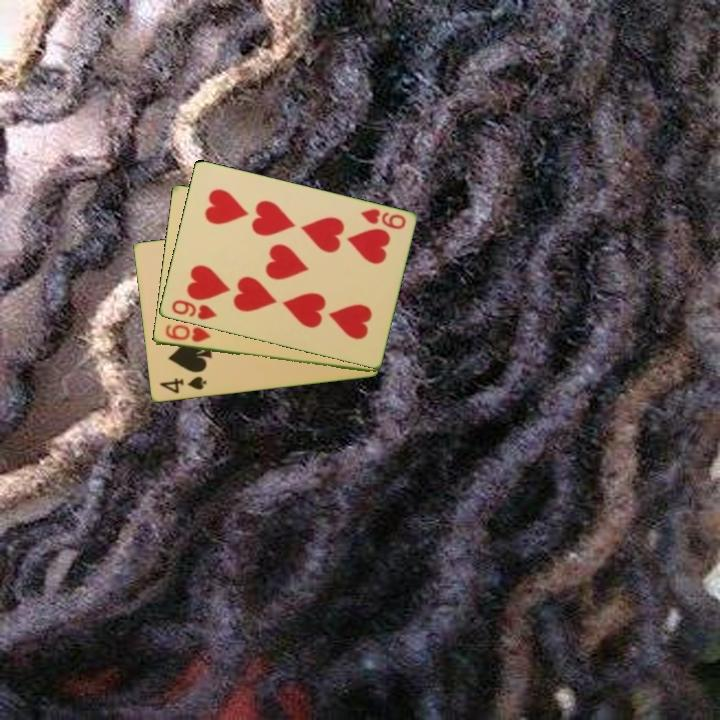4s: (156, 373, 209, 397)
6h: (161, 321, 213, 345)
9h: (356, 205, 408, 232), (168, 296, 219, 323)
